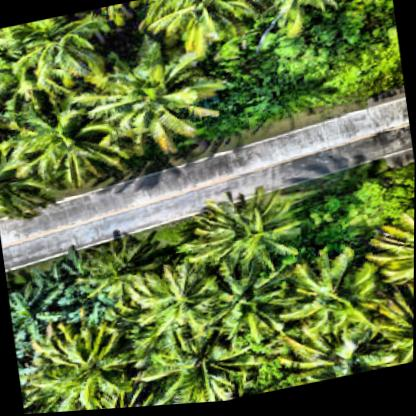tree-top: (185, 185, 303, 284), (89, 51, 201, 144), (1, 103, 93, 190), (144, 324, 239, 408), (46, 324, 136, 409), (279, 260, 370, 335), (130, 266, 220, 340), (11, 9, 98, 78), (91, 232, 171, 304), (211, 269, 286, 345), (40, 249, 112, 327), (299, 324, 383, 388), (149, 0, 255, 46), (367, 214, 415, 296), (7, 281, 69, 344), (372, 288, 414, 373), (252, 0, 348, 32)
